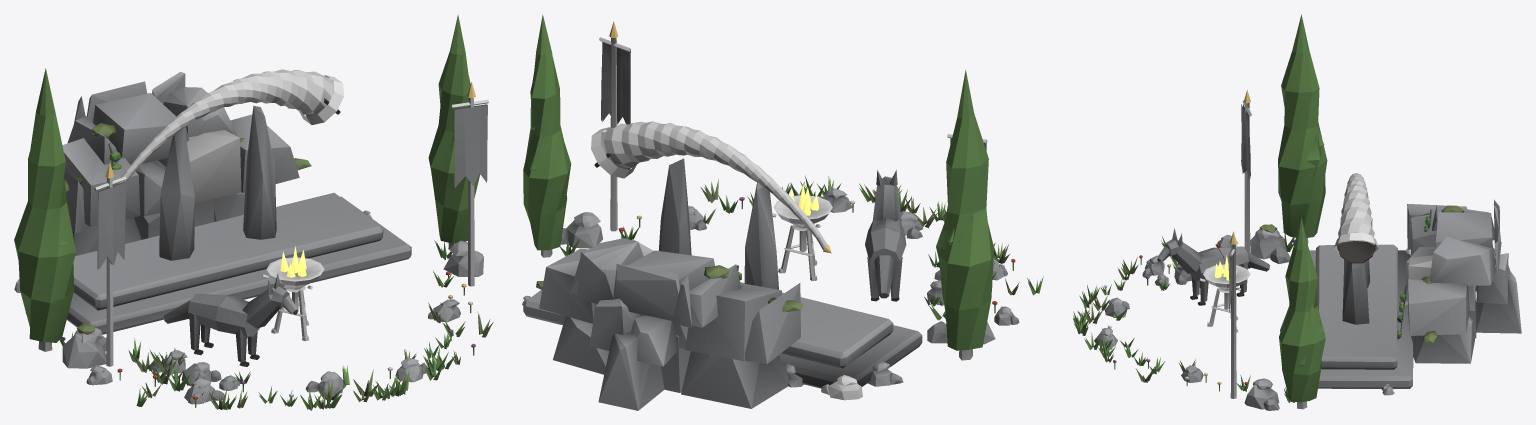
Rendered from horn-of-lycaon-l1.glb.
3 renders of one model, left to right at view 1: azimuth 30°, elevation 25°; view 2: azimuth 150°, elevation 25°; view 3: azimuth 270°, elevation 25°, orthographic. The views are drawn at different scales.
Visible parts, largest first — view 1: horn-of-lycaon-l1; view 2: horn-of-lycaon-l1; view 3: horn-of-lycaon-l1.
Boxes of the visible parts, left/top/right/bottom form: horn-of-lycaon-l1: left=14, top=14, right=493, bottom=410; horn-of-lycaon-l1: left=522, top=14, right=1043, bottom=410; horn-of-lycaon-l1: left=1073, top=14, right=1521, bottom=410.
Size of the model in its own units: 1.71 by 1.01 by 1.78.
